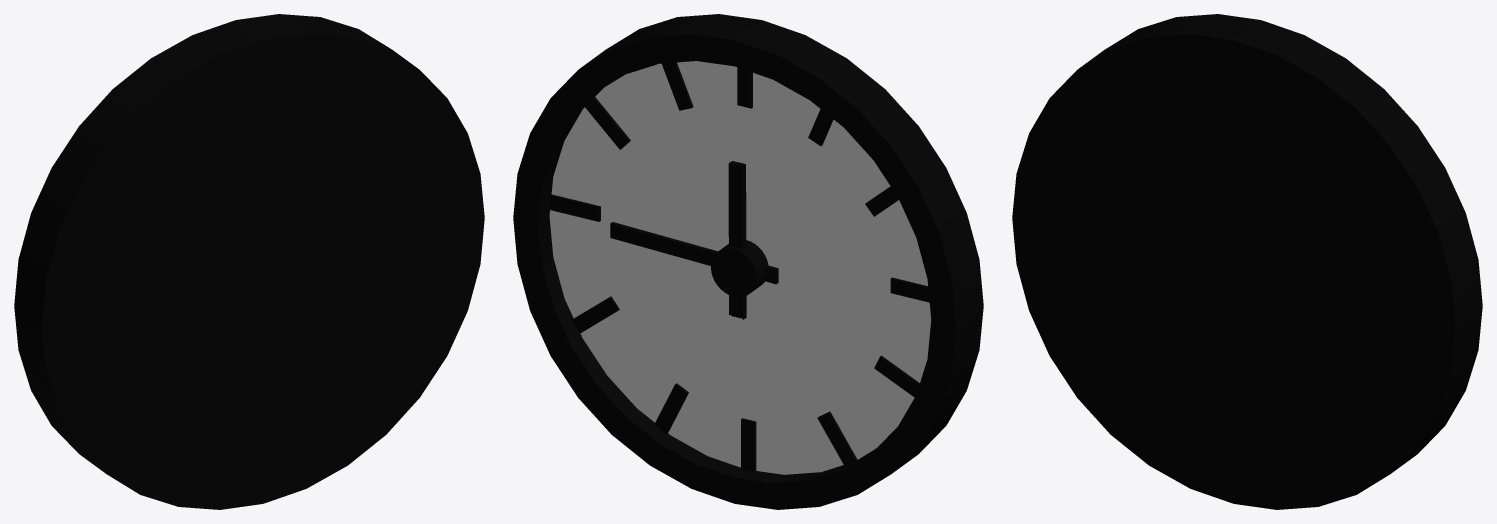
File: ClockV100.fbx
3 views of the same model, side by side, from view 1: azimuth 30°, elevation 25°; view 2: azimuth 150°, elevation 25°; view 3: azimuth 330°, elevation 25° (orthographic).
Parts seen in each view (by area): view 1: Clock; view 2: Clock, Minute, Hour; view 3: Clock.
Part boxes in pixels (x1,y1,x2,y2): Clock: [14, 14, 484, 509]; Clock: [513, 14, 983, 509]; Minute: [610, 222, 778, 284]; Hour: [728, 161, 746, 319]; Clock: [1012, 14, 1482, 509].
Bounding box in the file's own units: 216 × 216 × 23.98.
